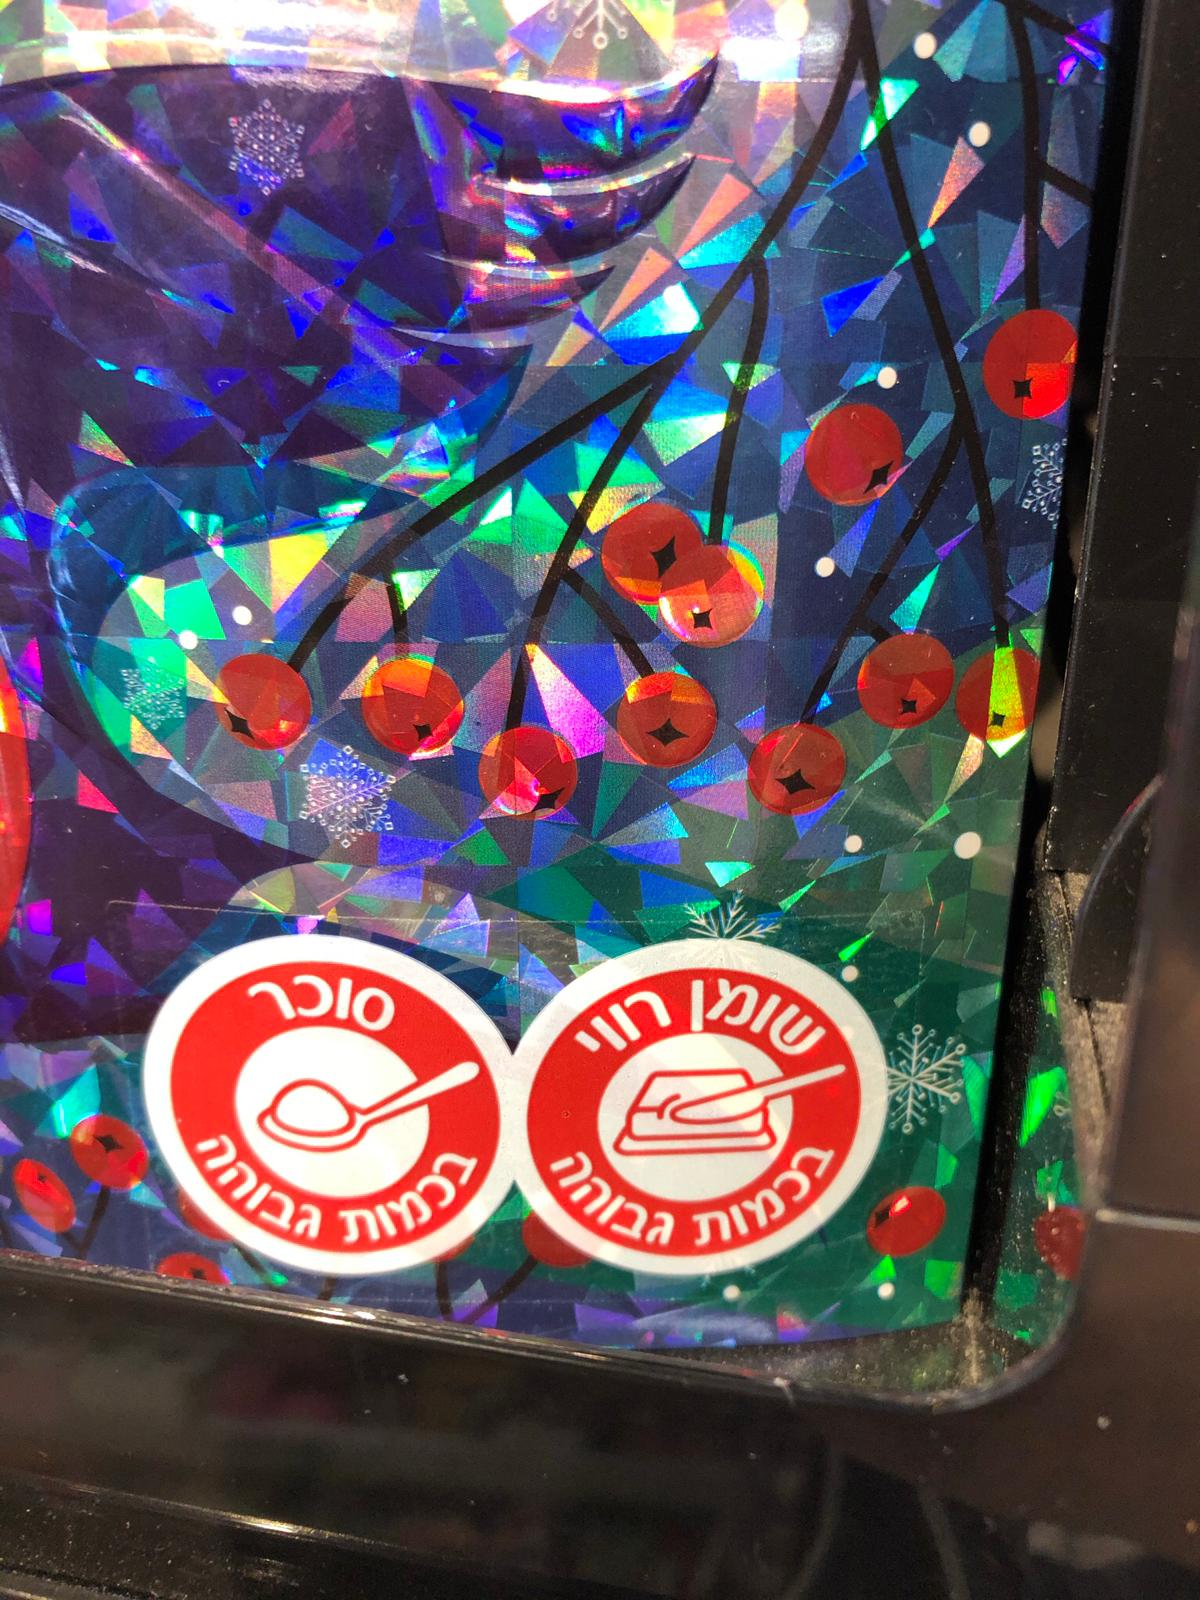fat: (512, 936, 884, 1272)
sugar: (139, 936, 517, 1275)
